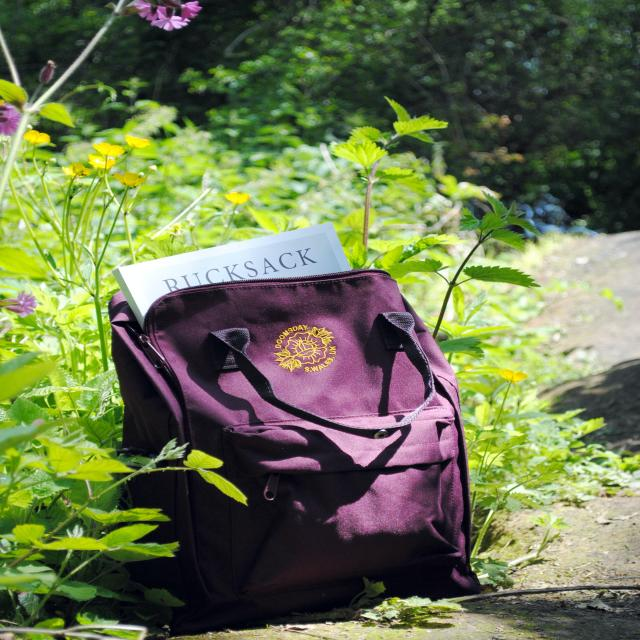backpack: (102, 269, 485, 614)
